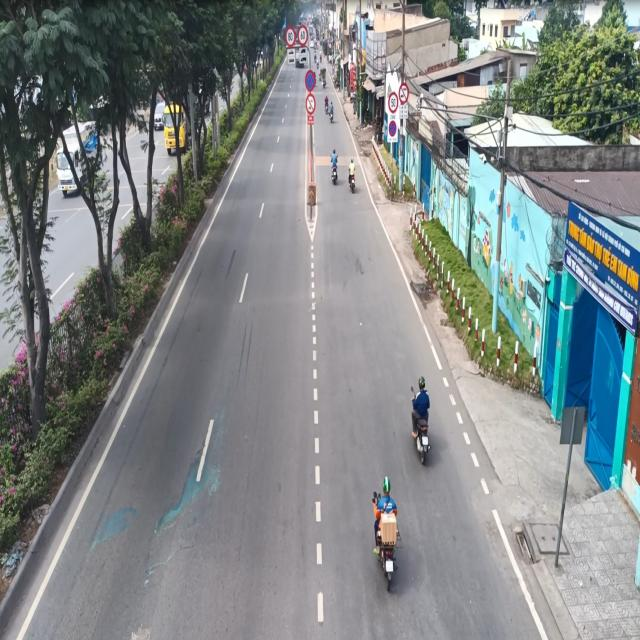motor: (367, 475, 406, 599), (406, 371, 432, 468), (328, 141, 340, 189), (344, 154, 356, 200)
